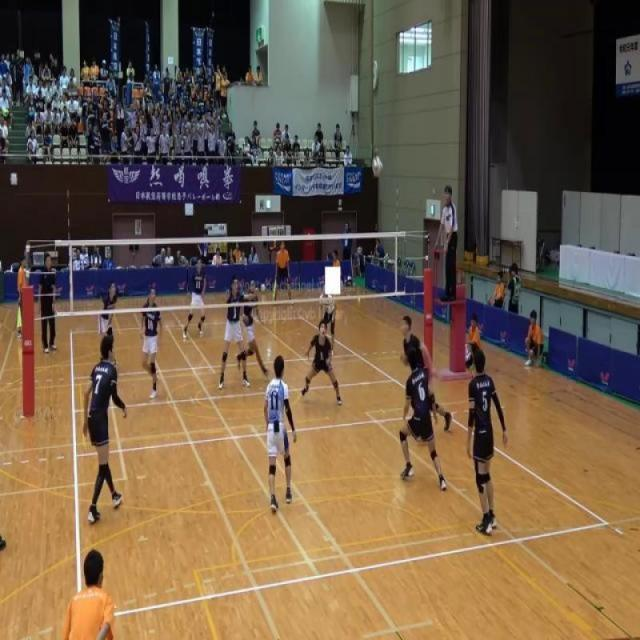volleyball: (371, 153, 384, 179), (260, 282, 266, 294)
